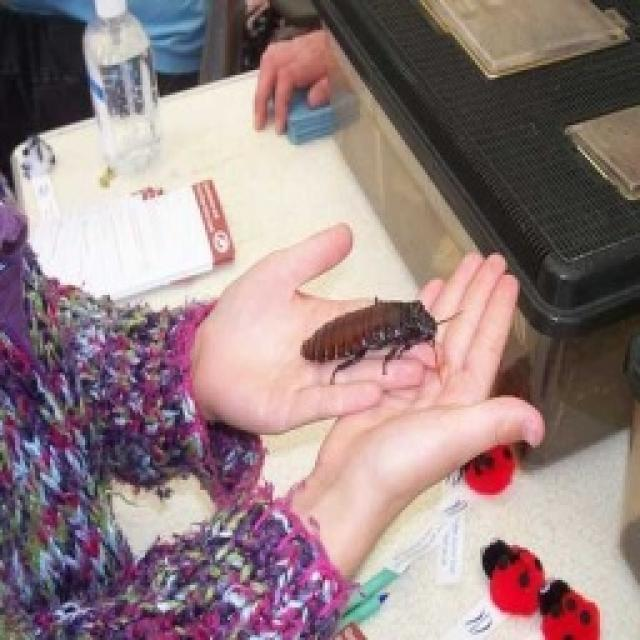cockroach: (297, 292, 447, 387)
